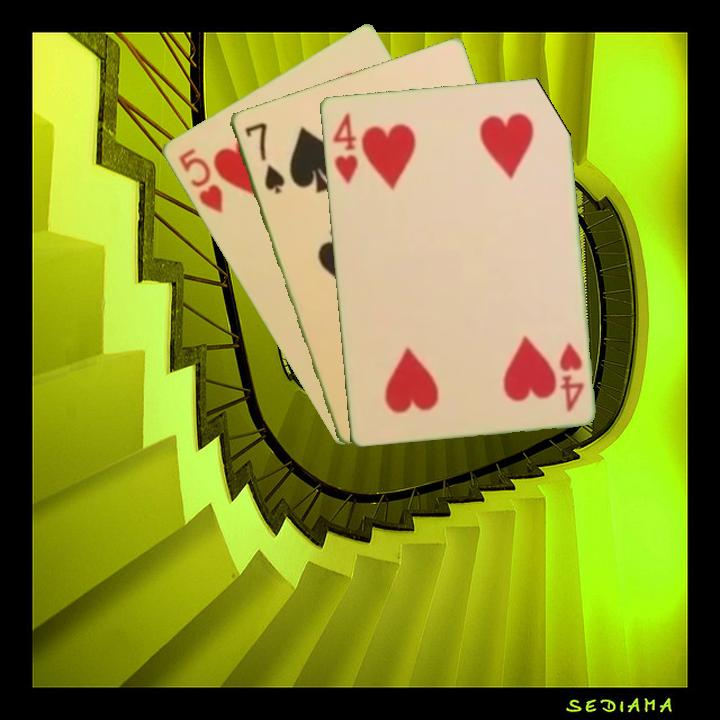4h: (329, 108, 361, 187), (555, 339, 587, 414)
5h: (174, 144, 225, 217)
7s: (240, 118, 287, 197)
